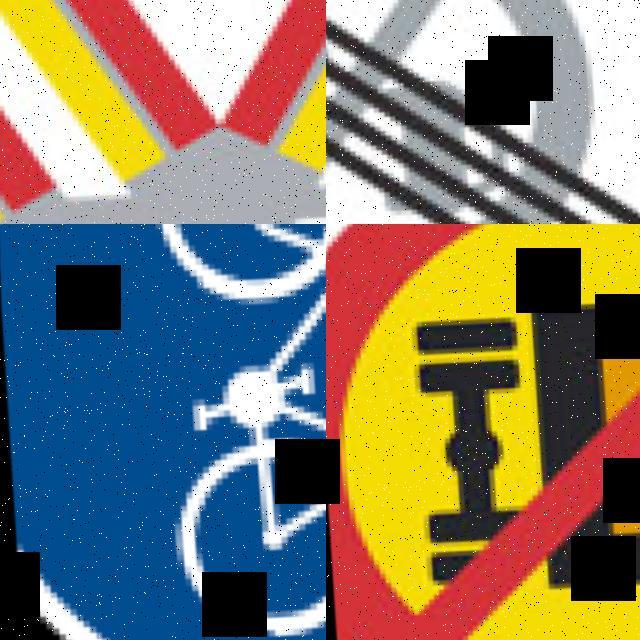111: (326, 0, 640, 224)
42: (326, 224, 640, 640)
62: (0, 0, 326, 224)
Cycle track: (0, 224, 326, 640)
